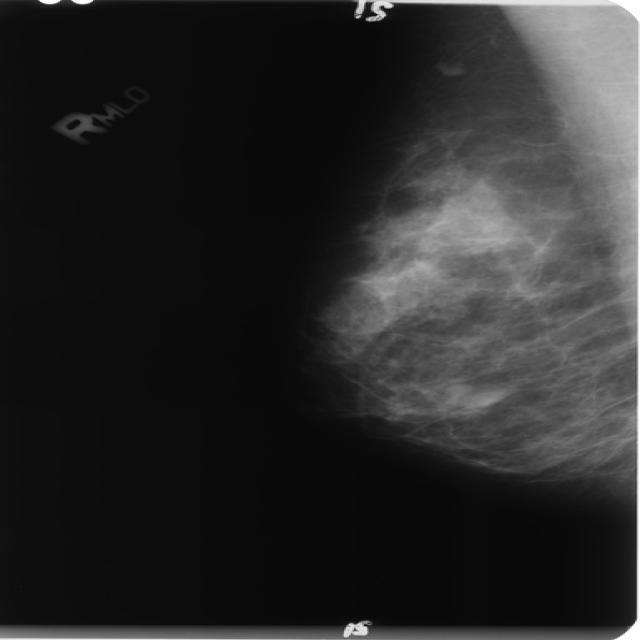tumour: (439, 381, 497, 408)
